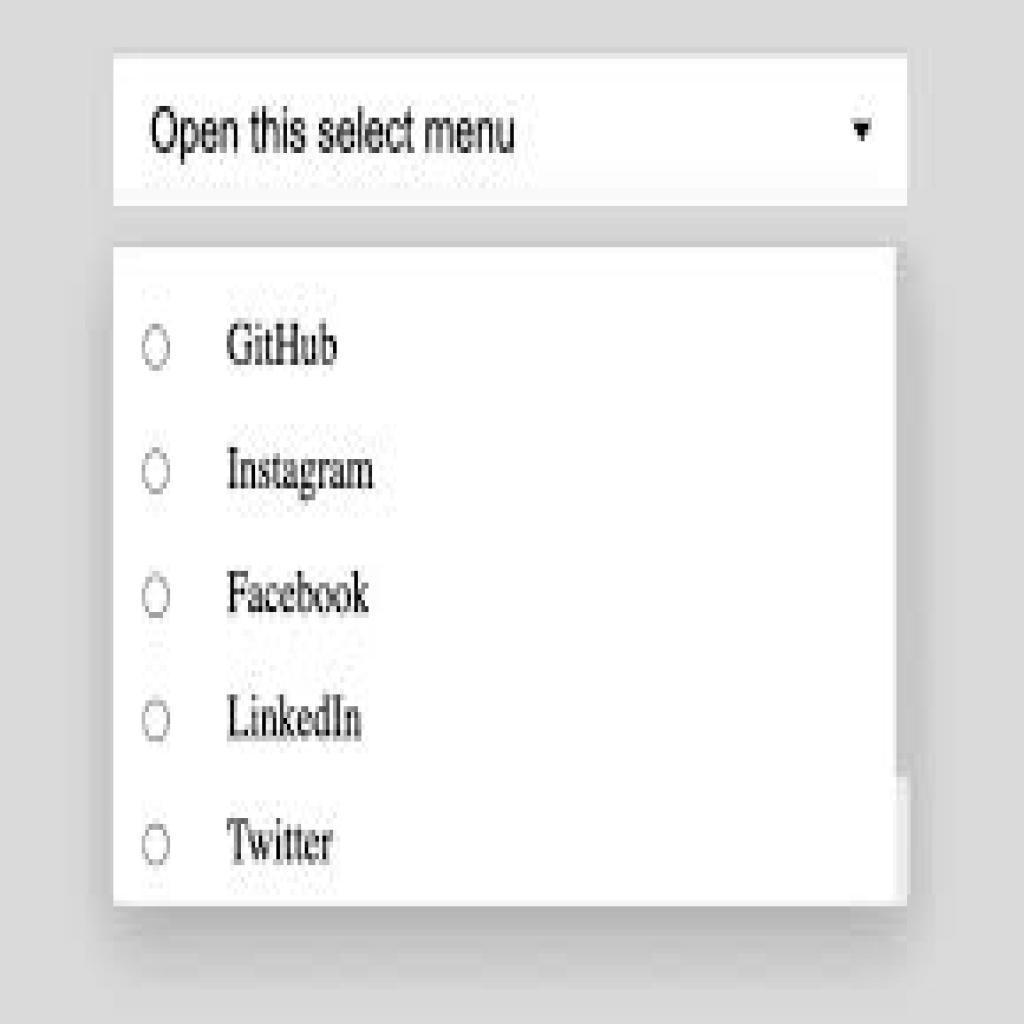dropdown: (111, 55, 907, 211)
label: (213, 684, 380, 753), (225, 565, 386, 631), (226, 444, 383, 509), (220, 305, 347, 374), (224, 805, 349, 873)
radio: (136, 317, 181, 383), (139, 565, 183, 622), (138, 443, 179, 500), (137, 690, 178, 747), (137, 817, 176, 869)
